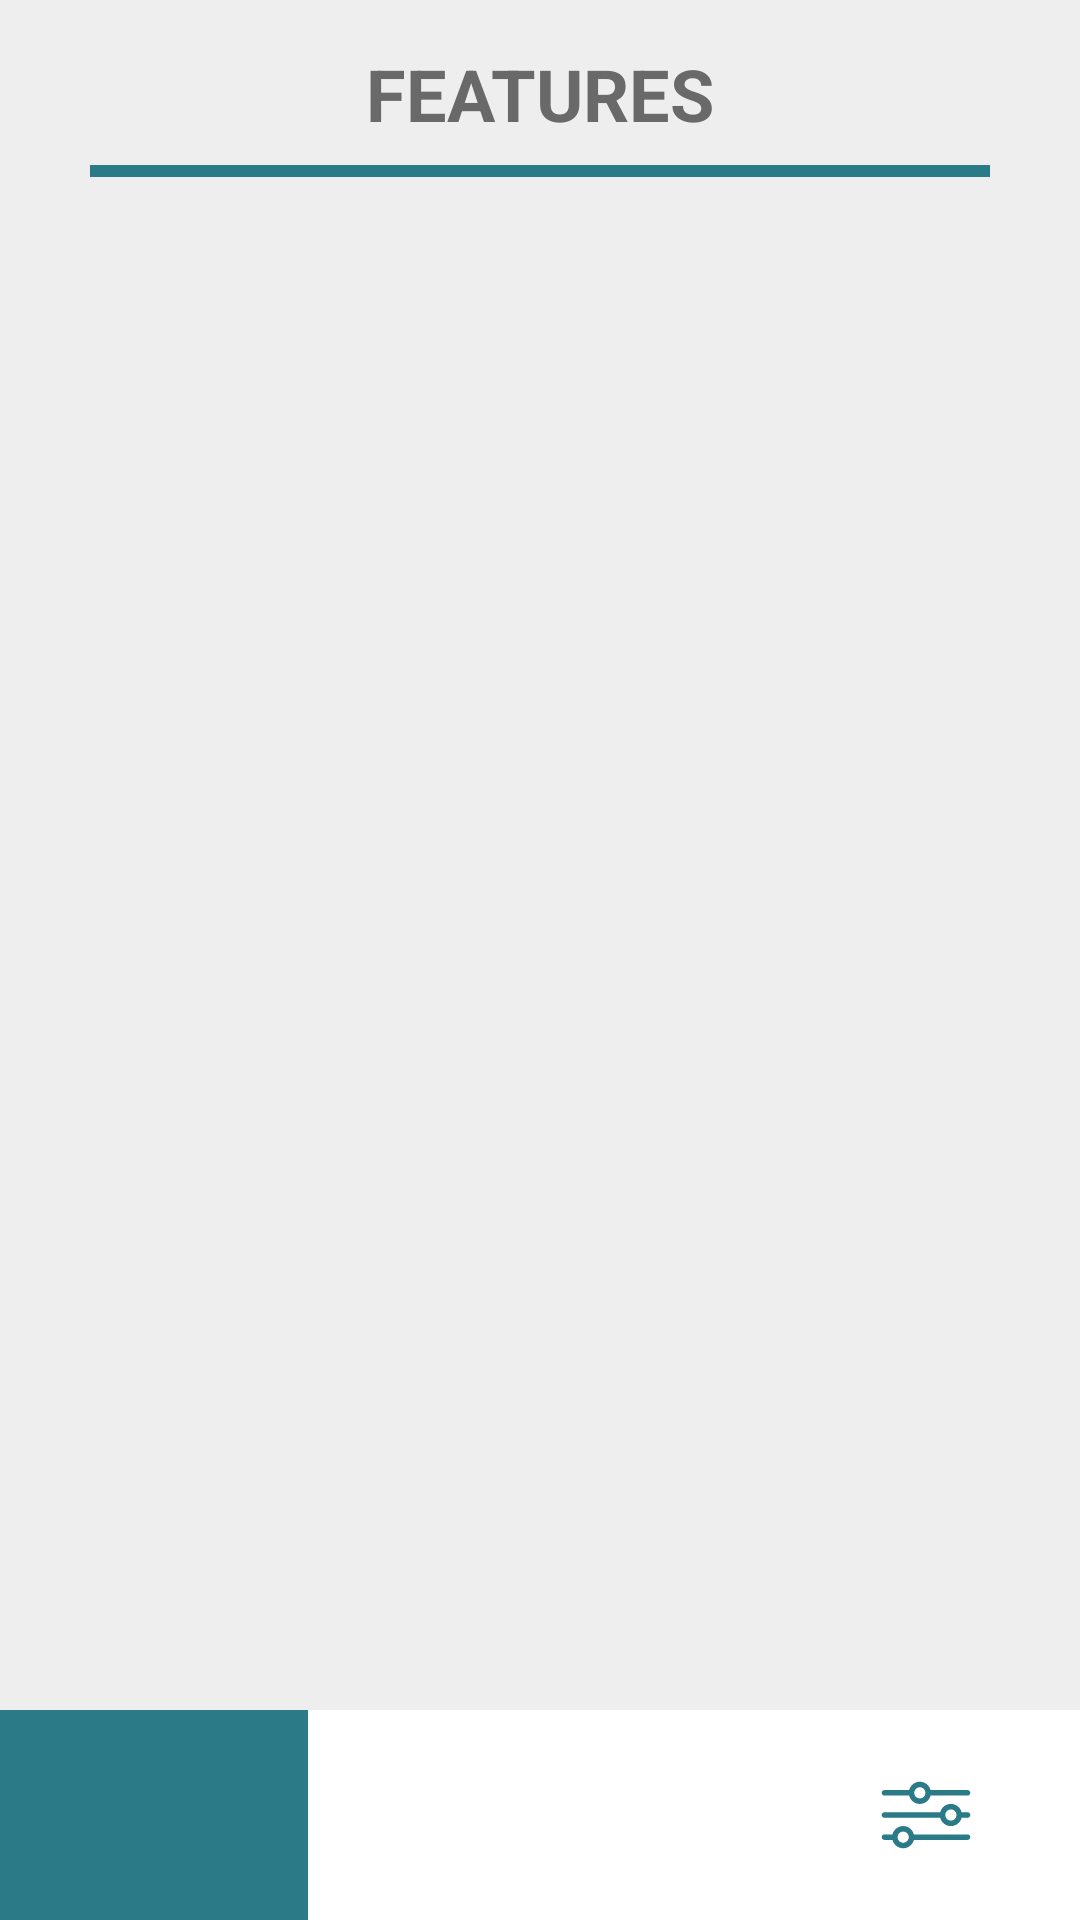

Named icons in this screenshot (1080×1920) and their centers, (x=x, y=y):
settings: (x=926, y=1815)
